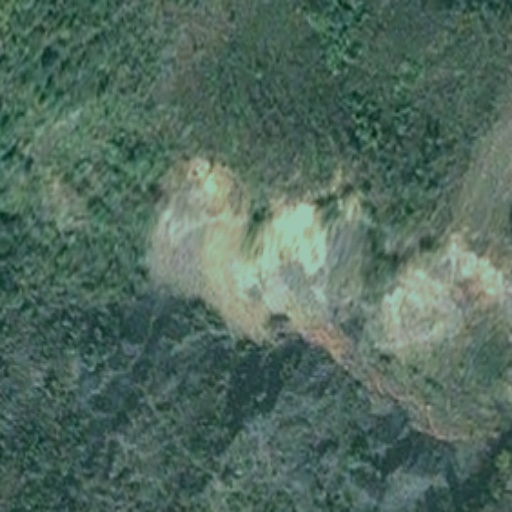landslide: (146, 157, 335, 338)
